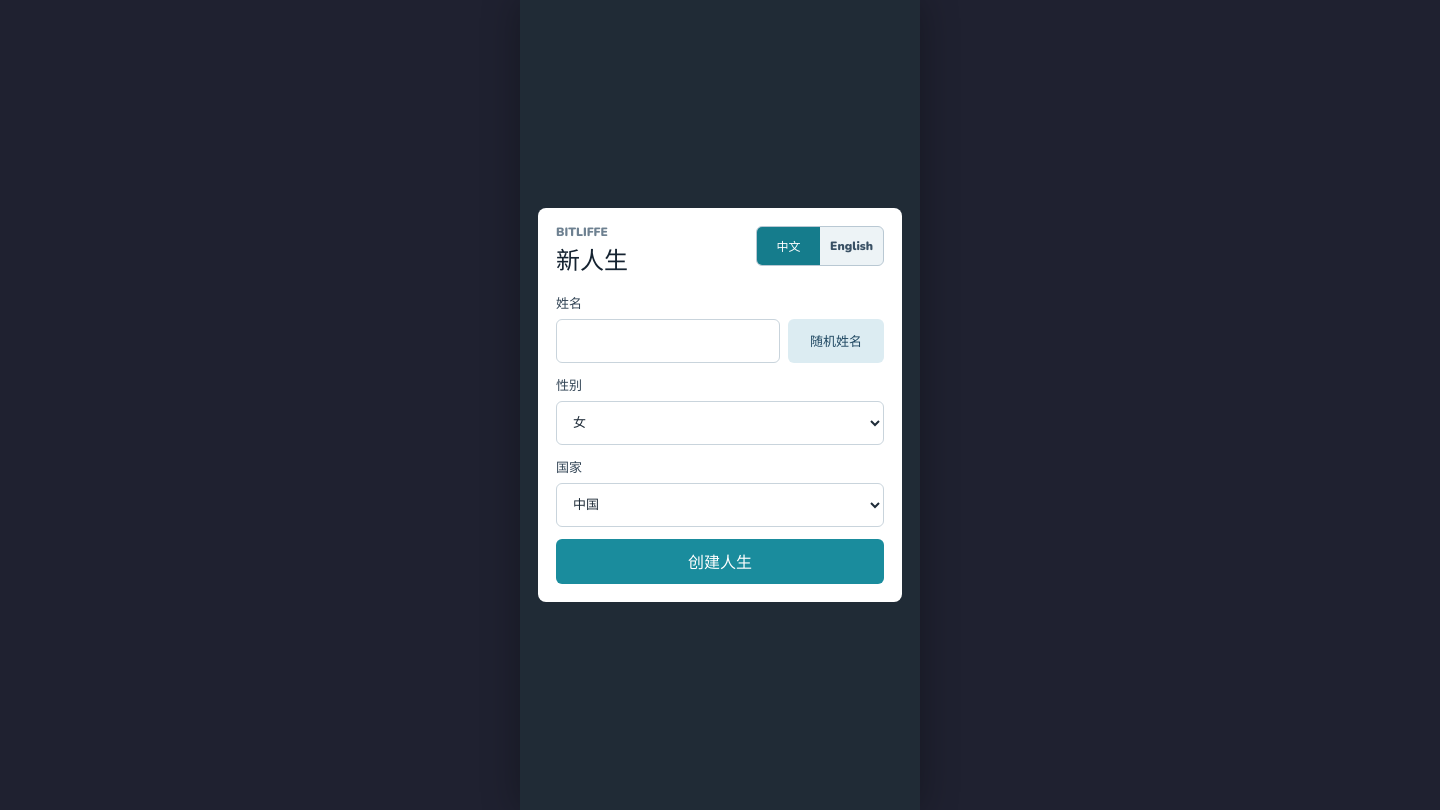
it: App › creates a life and shows the dashboard
This screenshot has width=1440, height=810.
Click the button "English". click: {"x": 852, "y": 246}
box: [820,227,883,265]
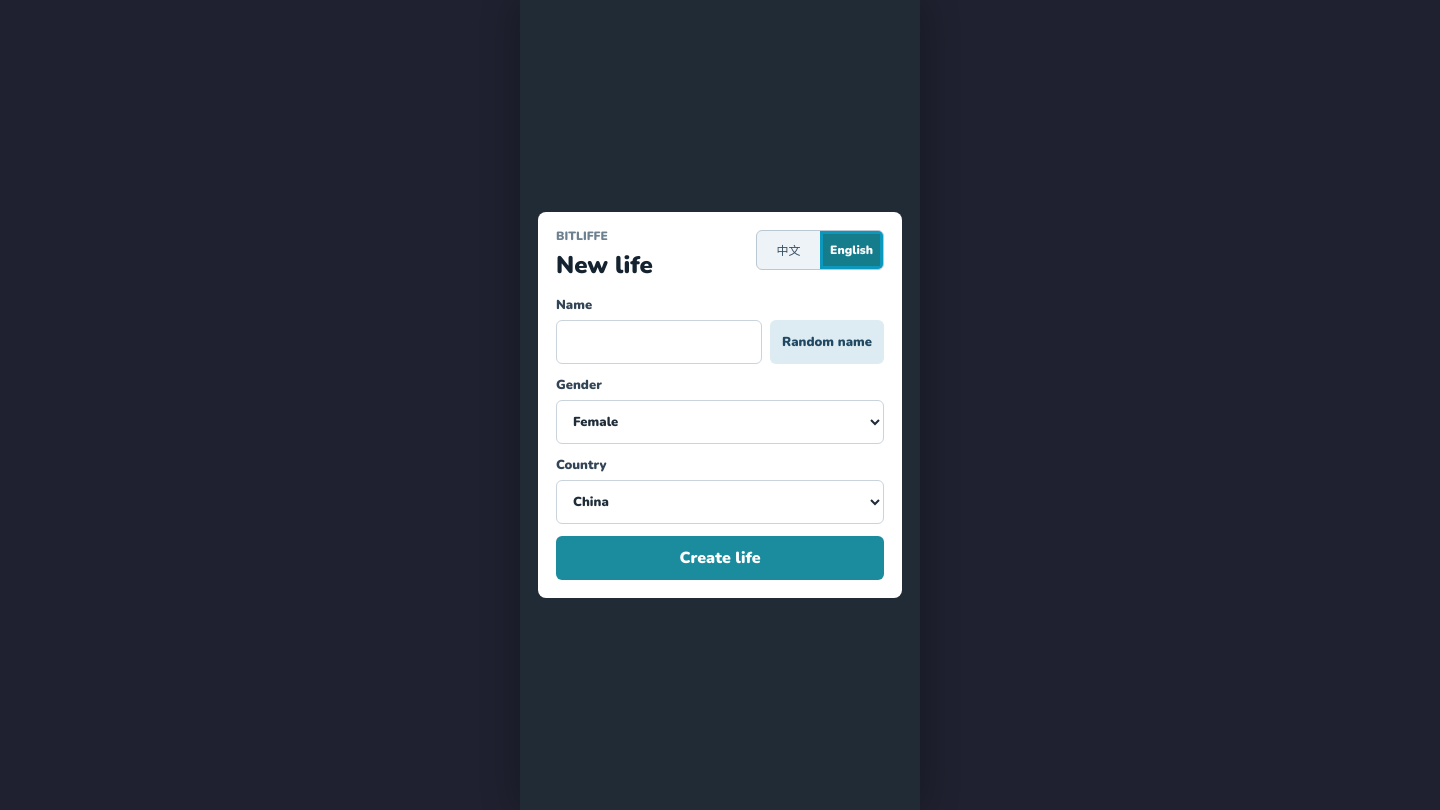
Type "Mina Lin" into the field labelled "Name". click: {"x": 659, "y": 342}
box: [556,320,762,364]
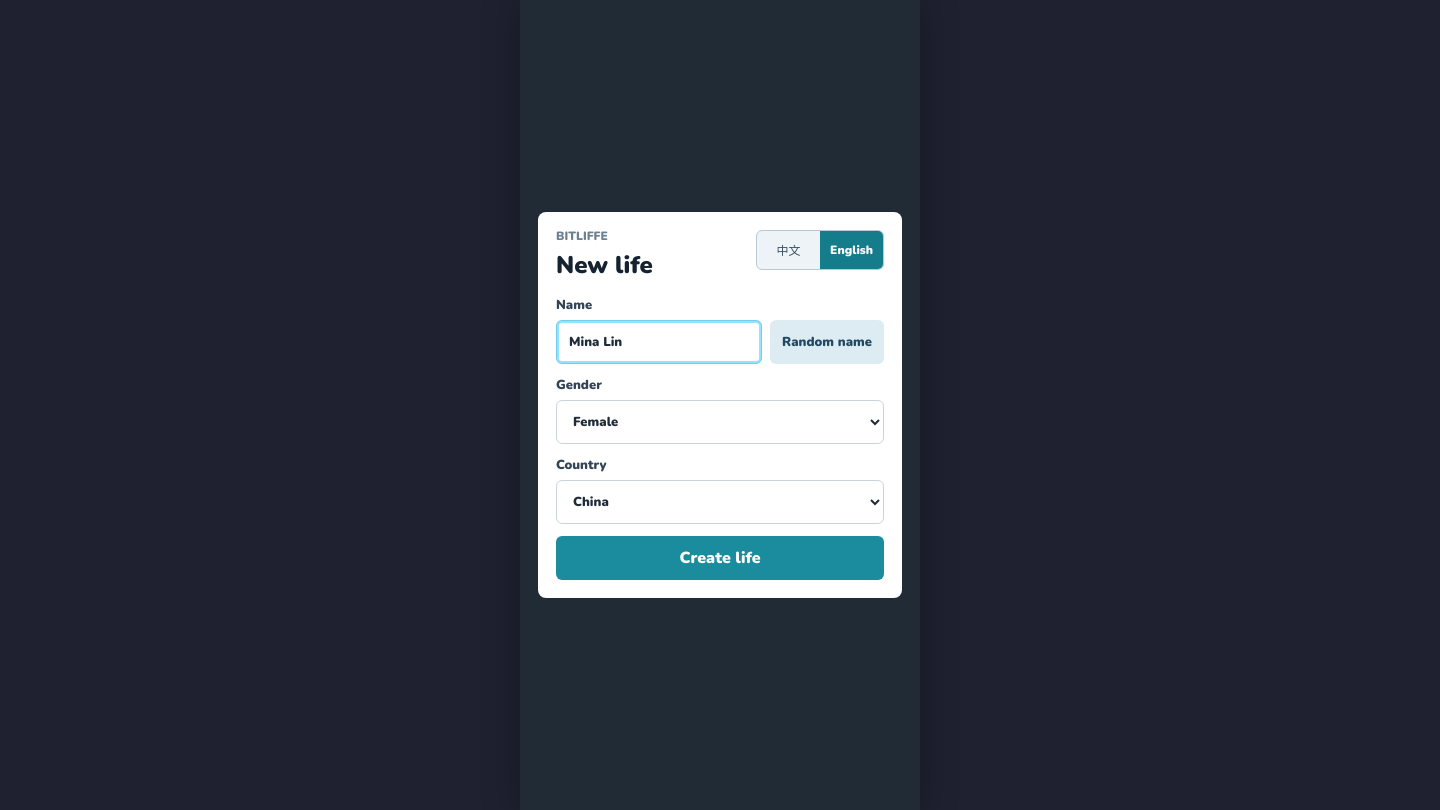
Click the button "Create life". click: {"x": 720, "y": 558}
box: [556,536,884,580]
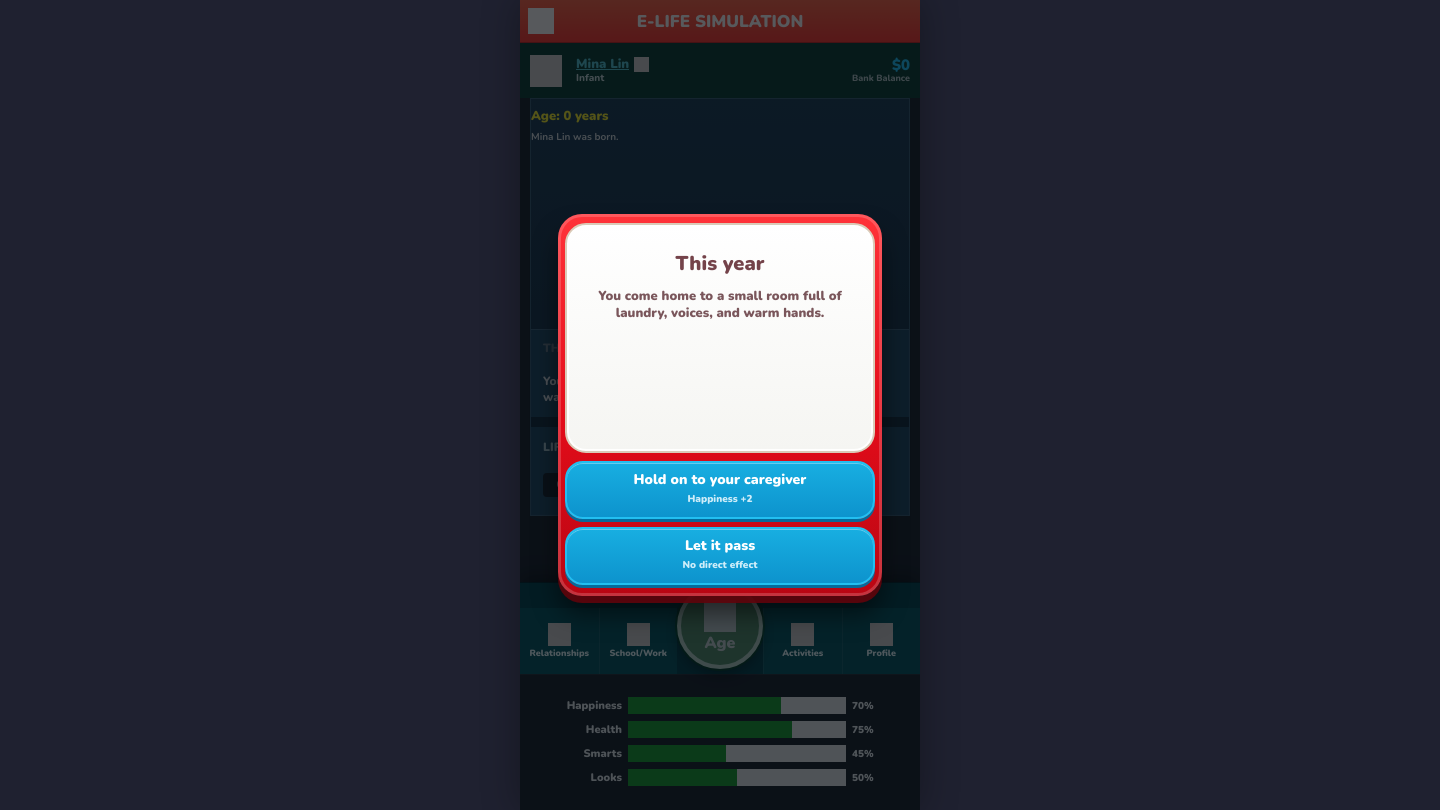
Expected: the text "Mina Lin" is shown, [576,57,629,72]
Expected: the button with aria-label "Age up" is shown, [677,583,763,669]
